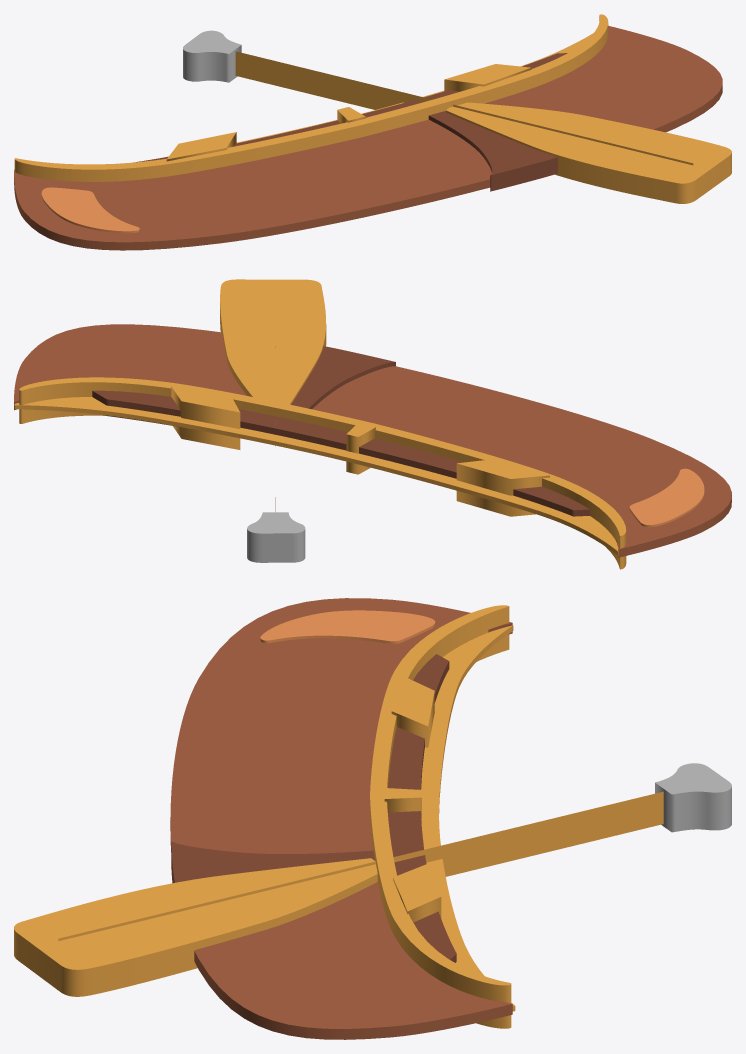
File: emoji_u1f6f6.glb
3 views of the same model, one above another, from view 1: azimuth 30°, elevation 25°; view 2: azimuth 150°, elevation 25°; view 3: azimuth 270°, elevation 25° (orthographic). The views are drawn at different scales.
Visible parts, largest first — view 1: emoji_u1f6f6; view 2: emoji_u1f6f6; view 3: emoji_u1f6f6.
Boxes of the visible parts, x1,y1,x2,y2 form: emoji_u1f6f6: [14, 14, 731, 250]; emoji_u1f6f6: [14, 279, 731, 569]; emoji_u1f6f6: [14, 598, 731, 1039].
Bounding box in the file's own units: 0.0342 × 0.0018 × 0.0241.
